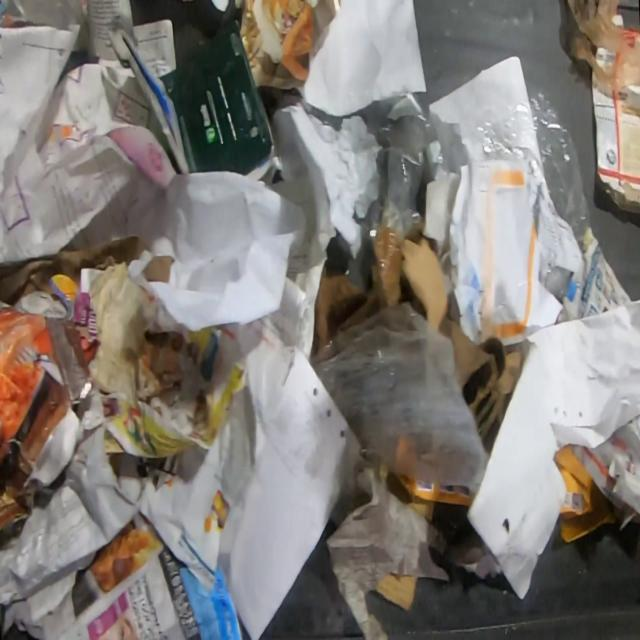cardboard: (311, 223, 532, 436), (467, 340, 565, 601), (0, 300, 101, 552), (156, 18, 276, 183), (591, 68, 640, 213)
soft_plastic: (311, 303, 489, 497), (474, 93, 590, 237), (355, 93, 451, 244), (566, 0, 640, 90), (540, 265, 570, 299)
